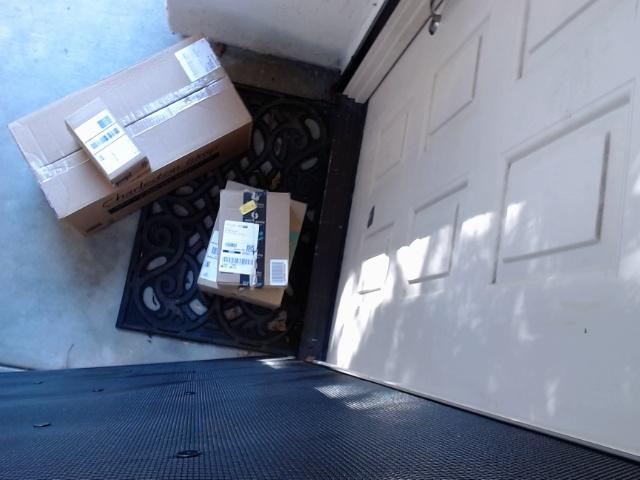box: (9, 36, 302, 217), (190, 172, 301, 352), (197, 186, 321, 288), (53, 86, 173, 176)
